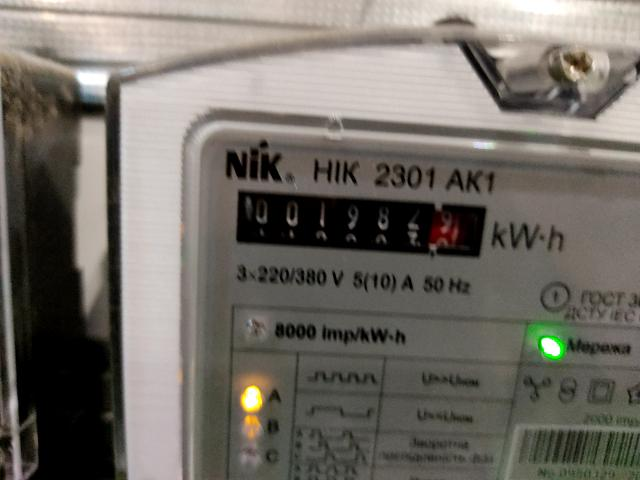0: (284, 199, 301, 228), (254, 196, 270, 225)
1: (316, 199, 328, 228)
2: (406, 202, 424, 231)
8: (376, 203, 392, 231)
9: (437, 208, 457, 236), (345, 202, 360, 231)
screen: (220, 176, 501, 272)
